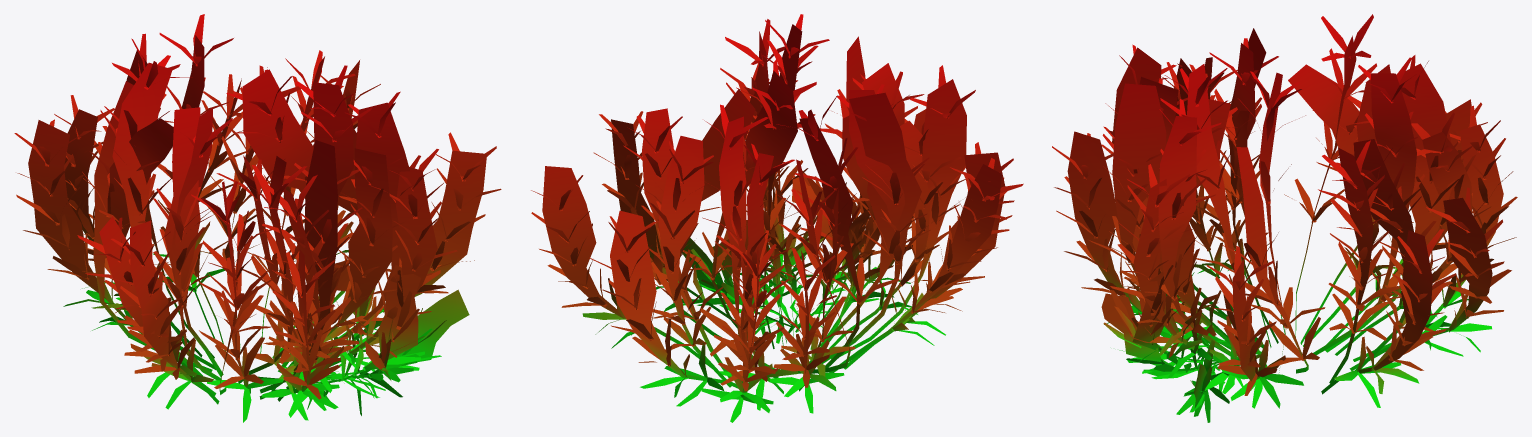
File: Var8_LOD5.fbx
3 renders of one model, left to right at view 1: azimuth 30°, elevation 25°; view 2: azimuth 150°, elevation 25°; view 3: azimuth 270°, elevation 25°, orthographic. The views are drawn at different scales.
Parts seen in each view (by area): view 1: _7fc7_Var8_LOD5; view 2: _7fc7_Var8_LOD5; view 3: _7fc7_Var8_LOD5.
Boxes of the visible parts, <box> form: _7fc7_Var8_LOD5: <box>14,14,501,422</box>; _7fc7_Var8_LOD5: <box>531,14,1023,422</box>; _7fc7_Var8_LOD5: <box>1052,14,1517,422</box>.
Size of the model in its own units: 38.41 by 29.81 by 37.2.
